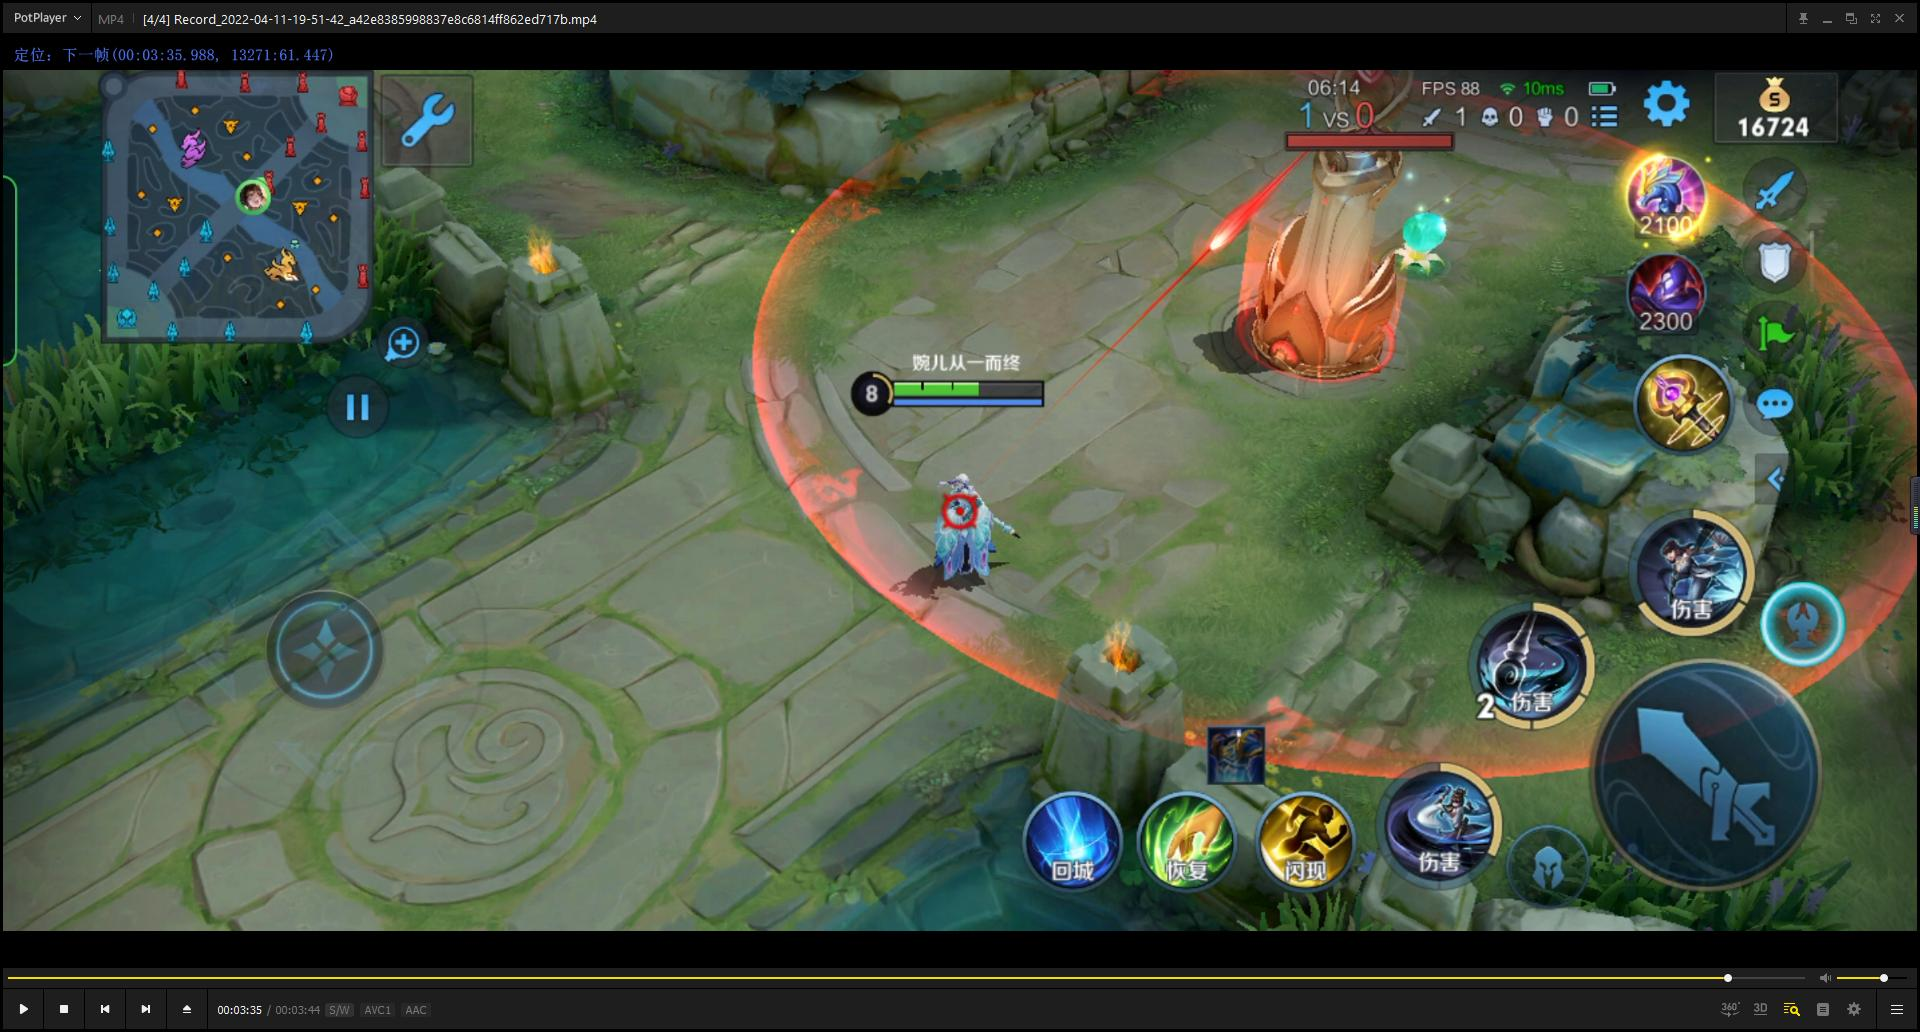Hero: (895, 452, 1045, 594)
Tower: (1200, 72, 1473, 417)
